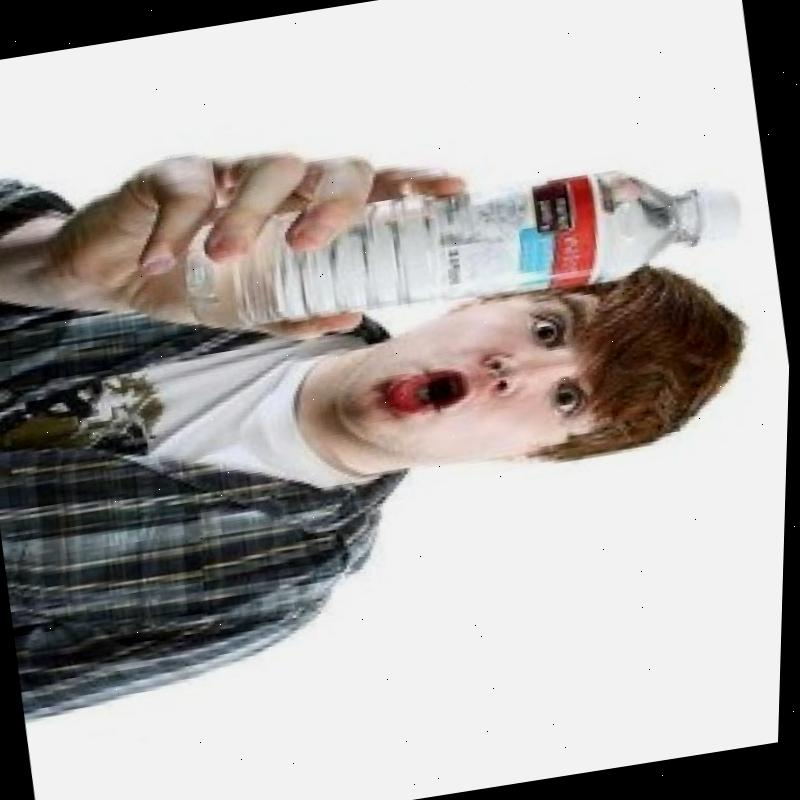botella: (176, 149, 752, 347)
